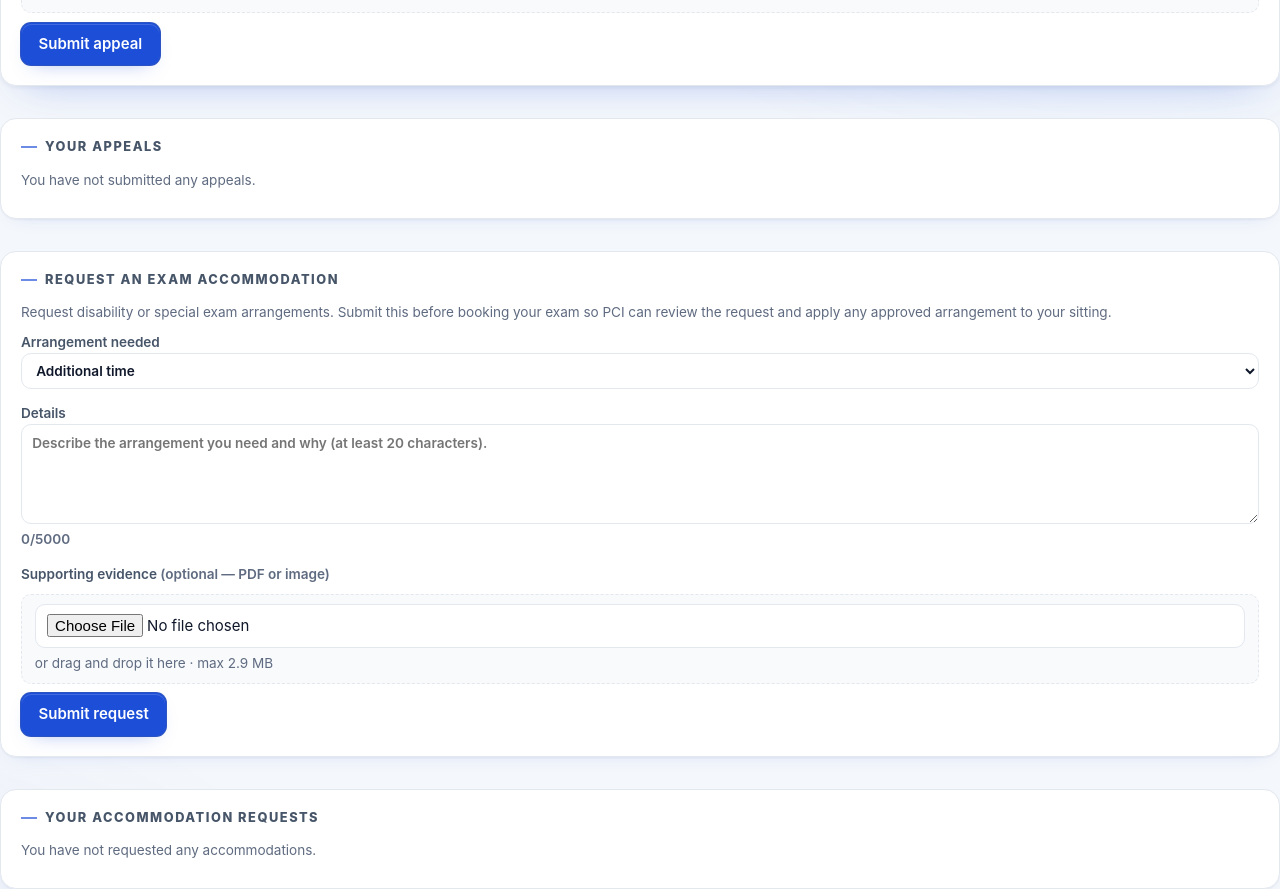
Scenario: Appeals & Accommodations › submits a valid accommodation request to the accommodations endpoint
(page scrolled)
In the text box labelled "Details 0/5000": (640, 474) [21,424,1259,524], type "I need additional time due to a documented condition."
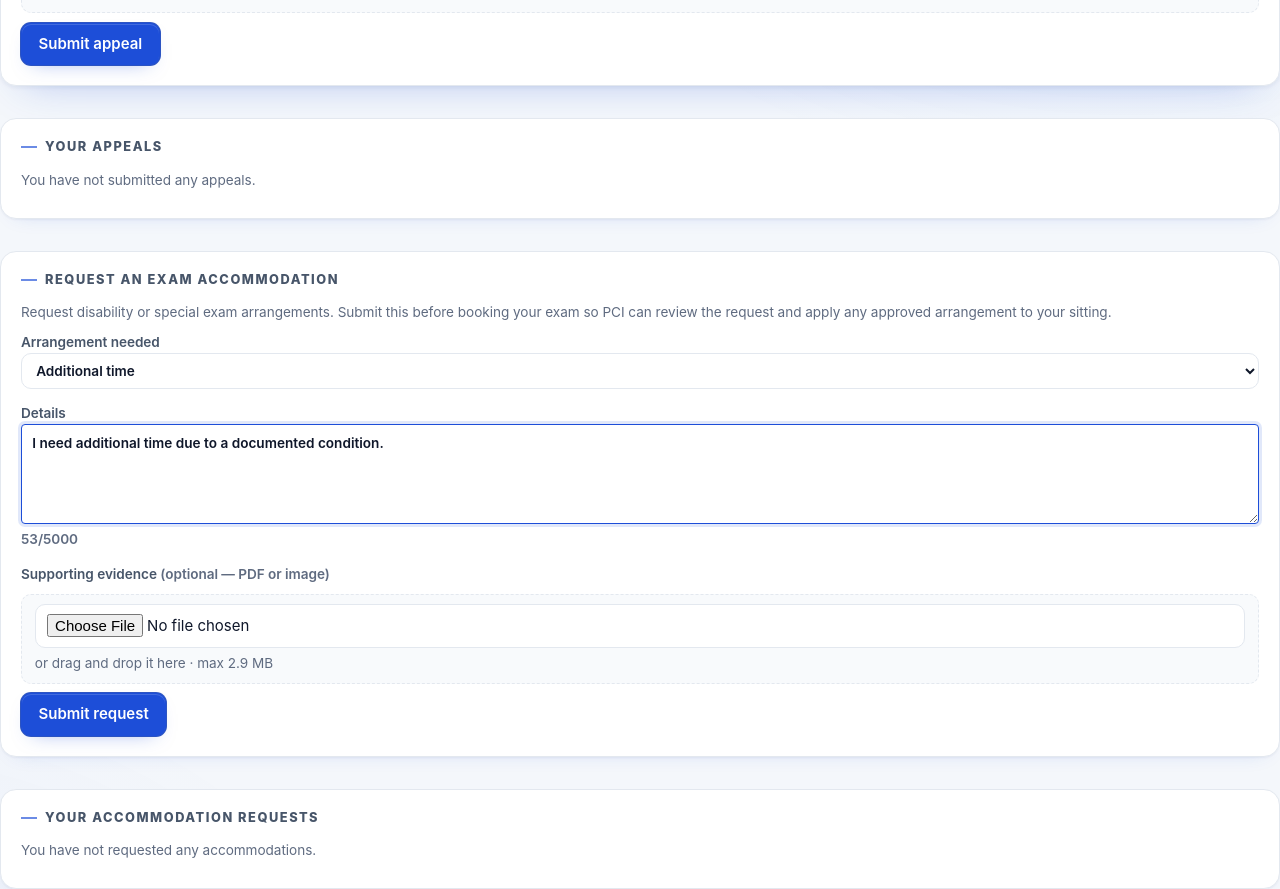
Click the button "Submit request": (94, 714) [21,693,166,736]
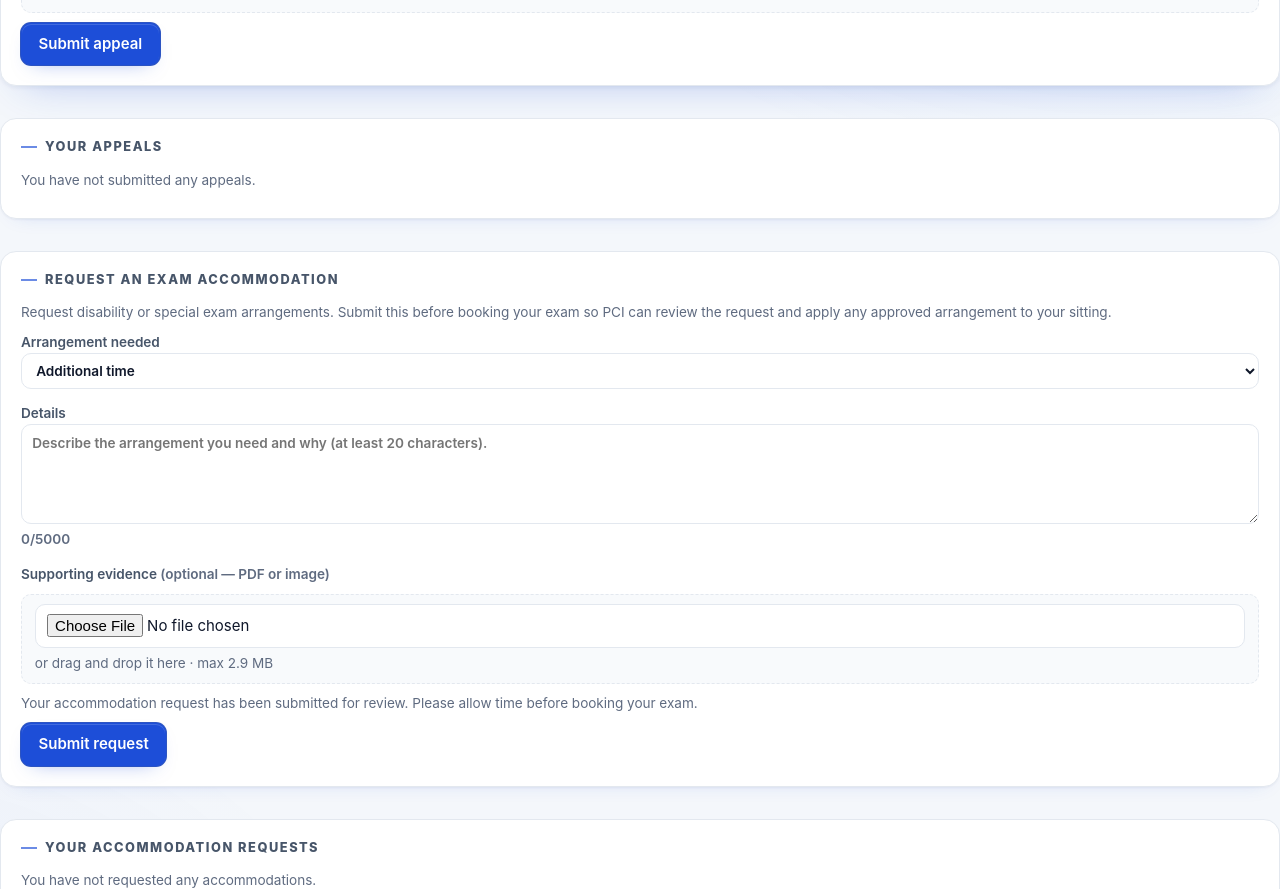
Check: the text "Your accommodation request has been submitted" is shown, box [21,695,698,711]
